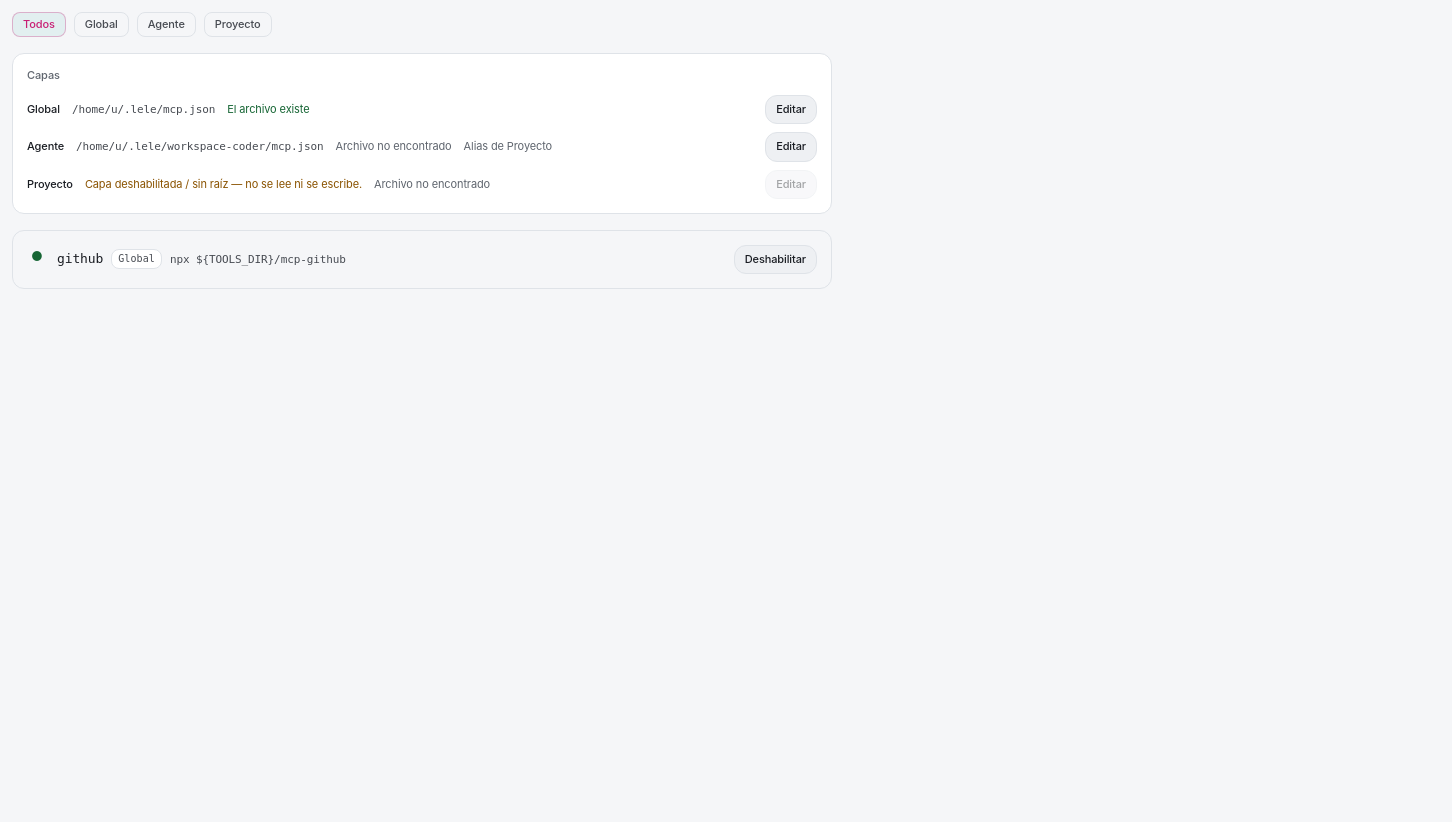
Test: AgentMCPSection — raw editor: save errors › 403 mcp_path_not_allowed and 400 mcp_layer_unavailable/body_invalid render their own messages
Click the button "Editar" in the row of "/home/u/.lele/mcp.json".
click(791, 110)  # box [765,95,817,124]
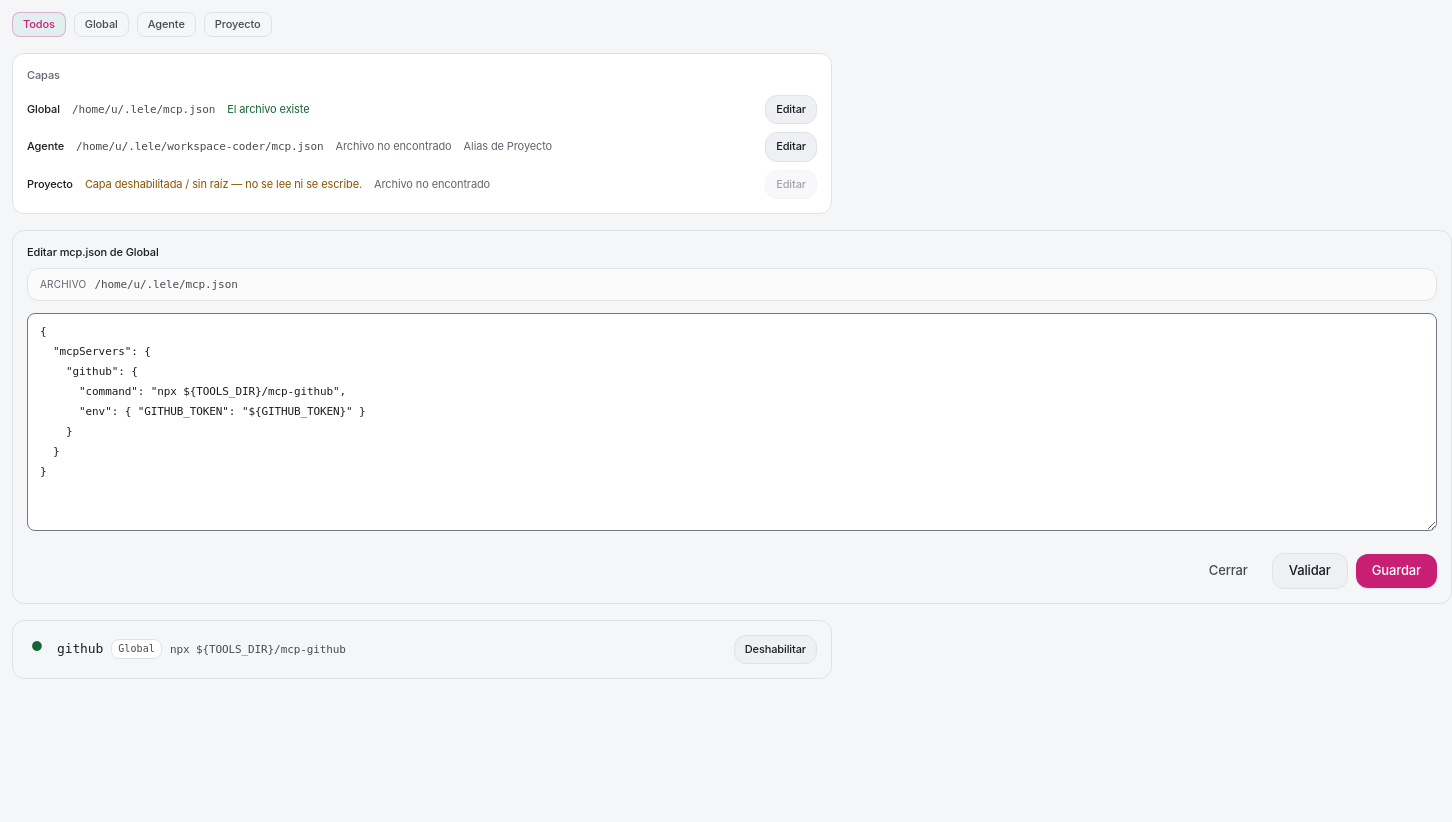
Click the button "Guardar".
click(1396, 571)  # box [1356,554,1437,588]
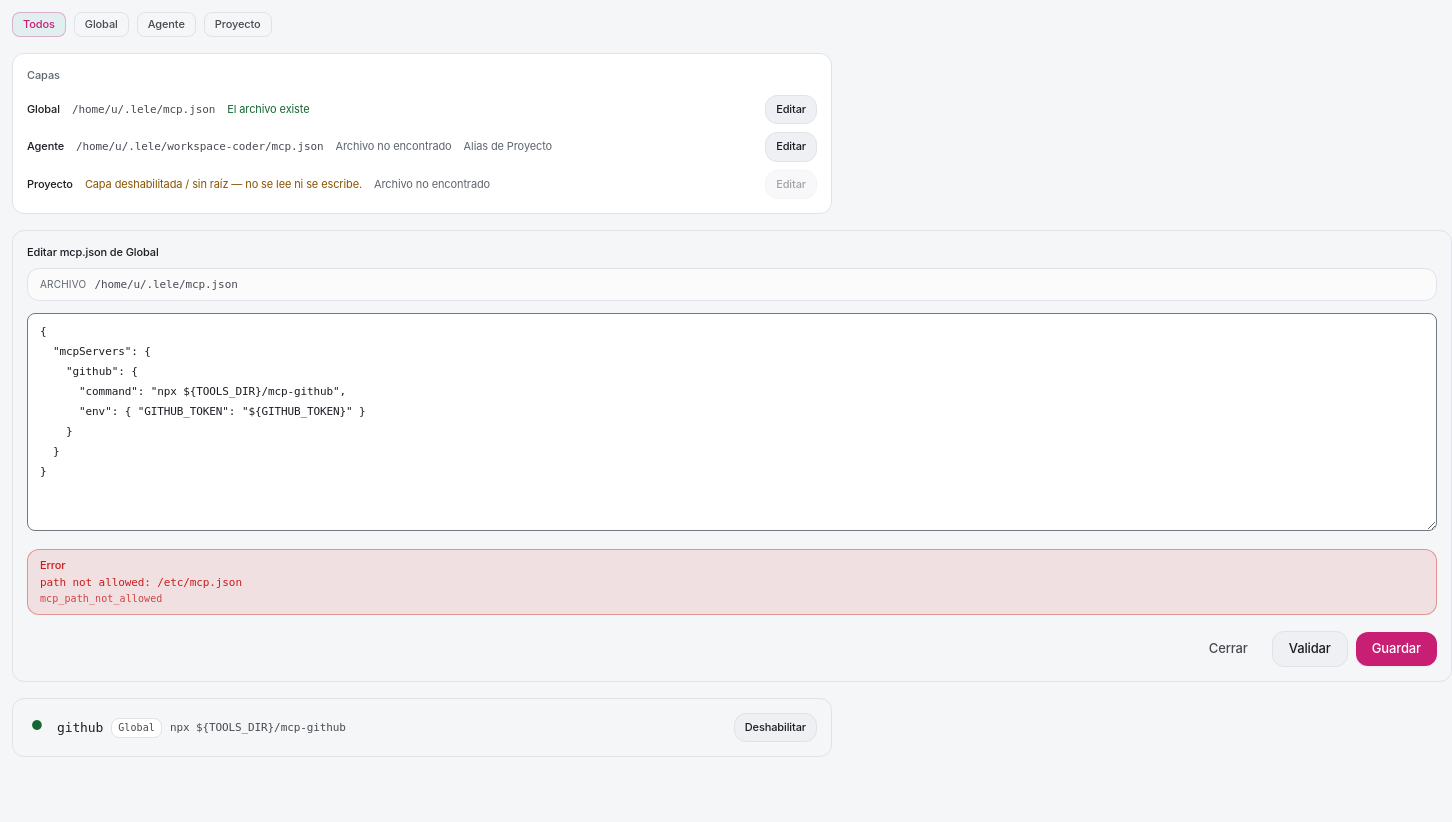
expect the text "mcp_path_not_allowed" is shown: met, box [40,593,162,604]
Click the button "Guardar".
click(1396, 649)  # box [1356,632,1437,666]
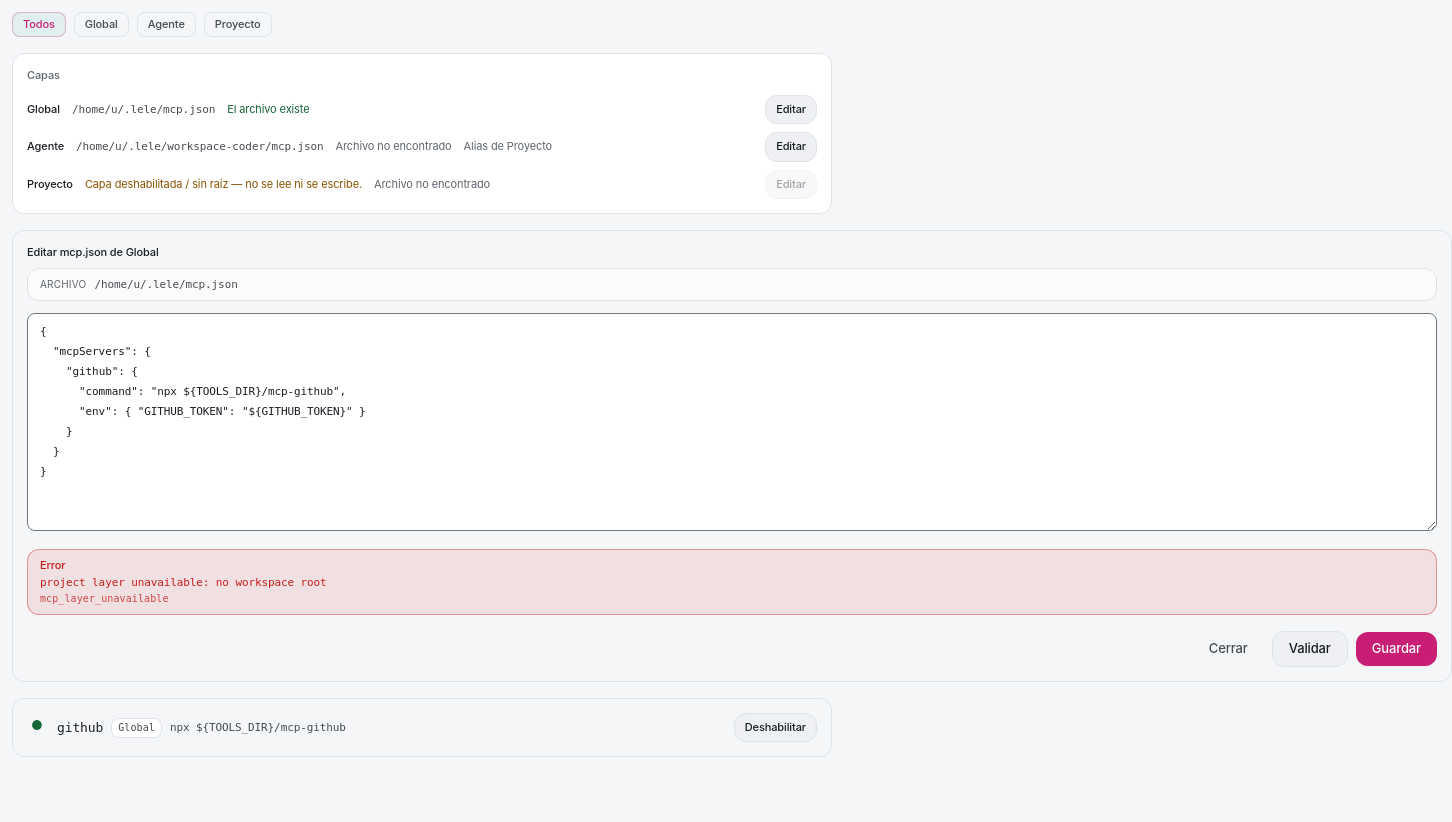
expect the text "mcp_layer_unavailable" is shown: met, box [40,593,168,604]
Click the button "Guardar".
click(1396, 649)  # box [1356,632,1437,666]
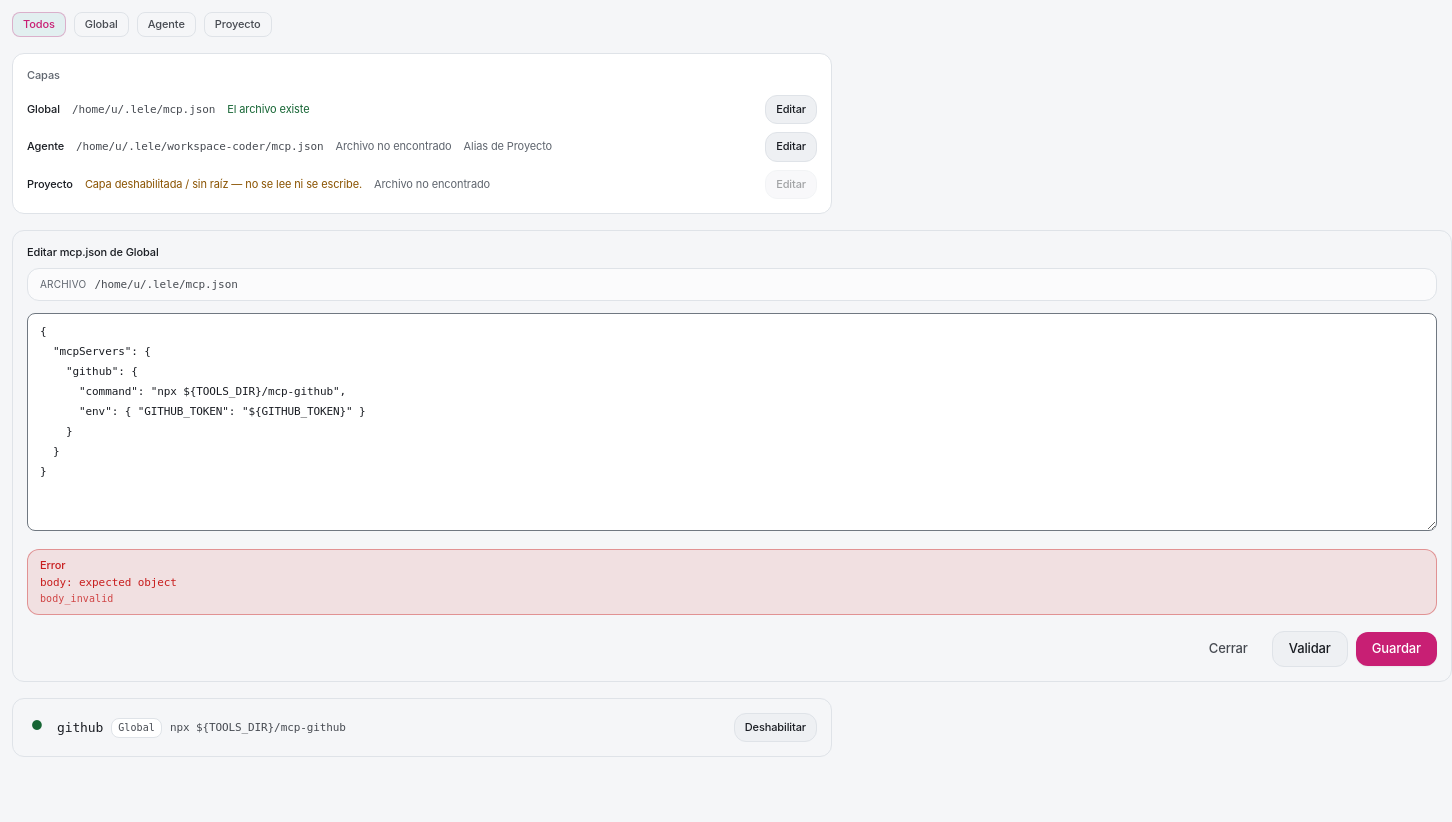
expect the text "body_invalid" is shown: met, box [40,593,114,604]
